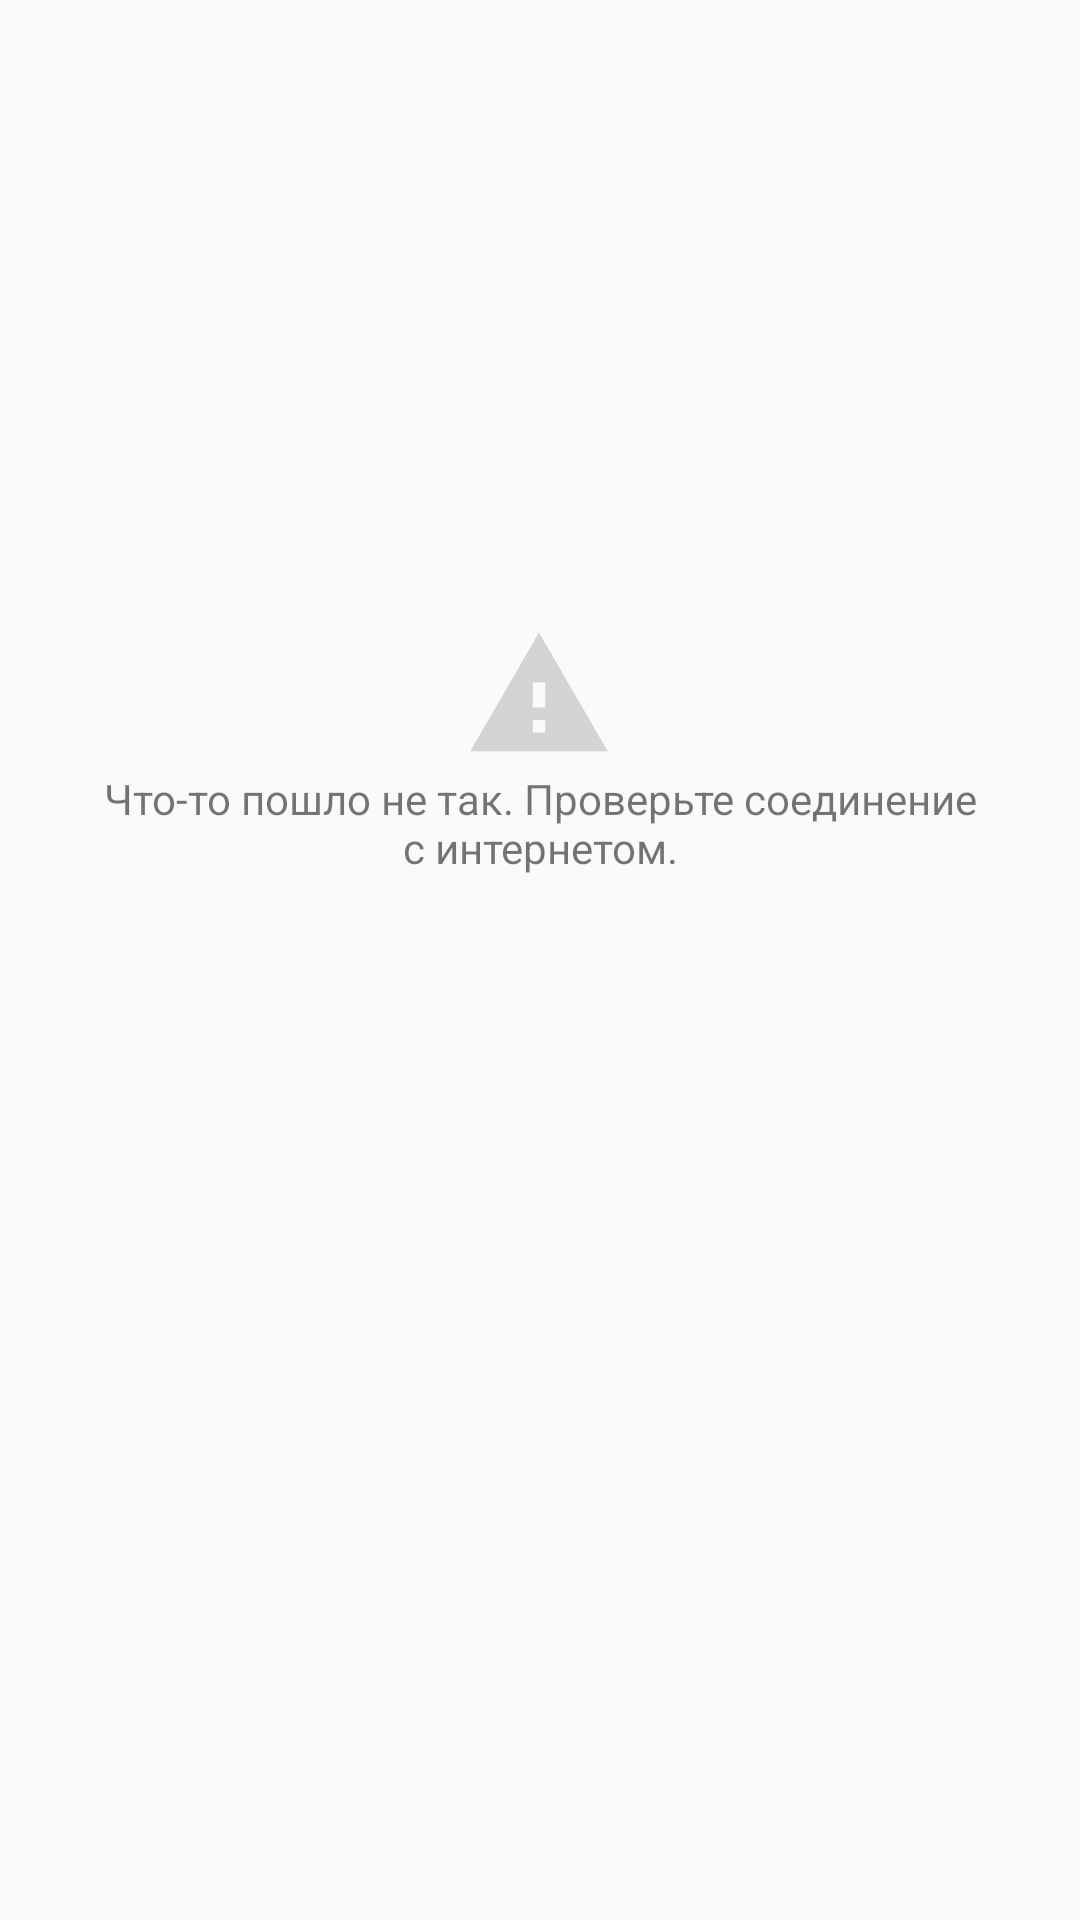

Locate icon controls on the screen. Image size 1080×1920, boxes as (x1, y1, x2, y2).
warning: (471, 634, 607, 751)
